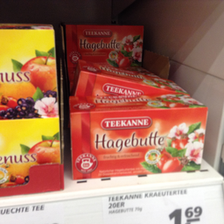tea: (66, 95, 208, 179), (65, 24, 145, 69)
